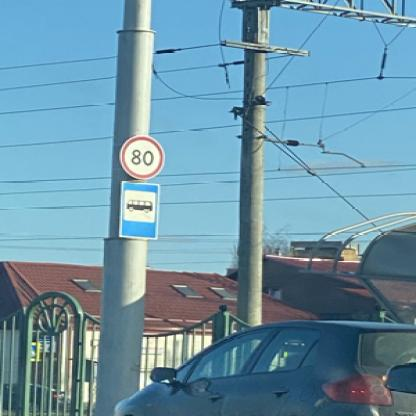Speed Limit 80: (118, 134, 166, 179)
